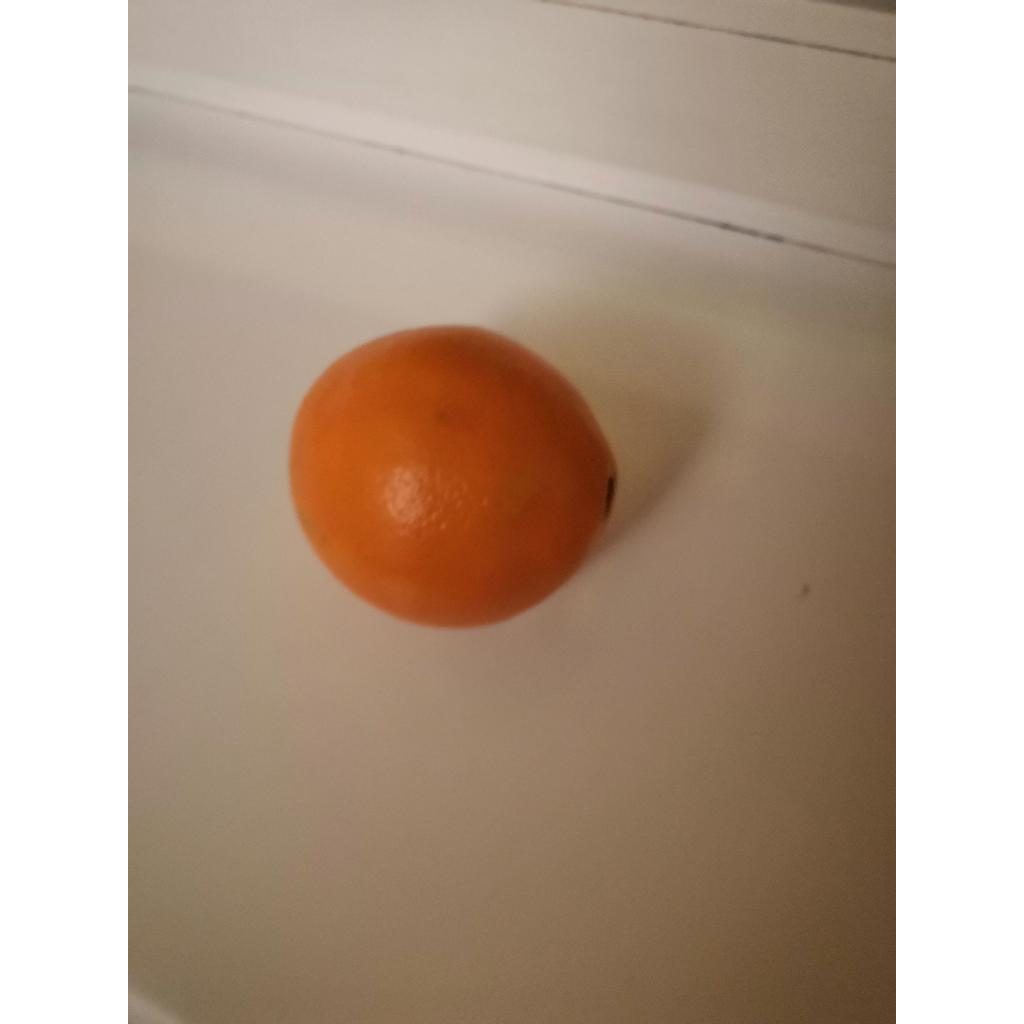orange: (290, 326, 616, 626)
